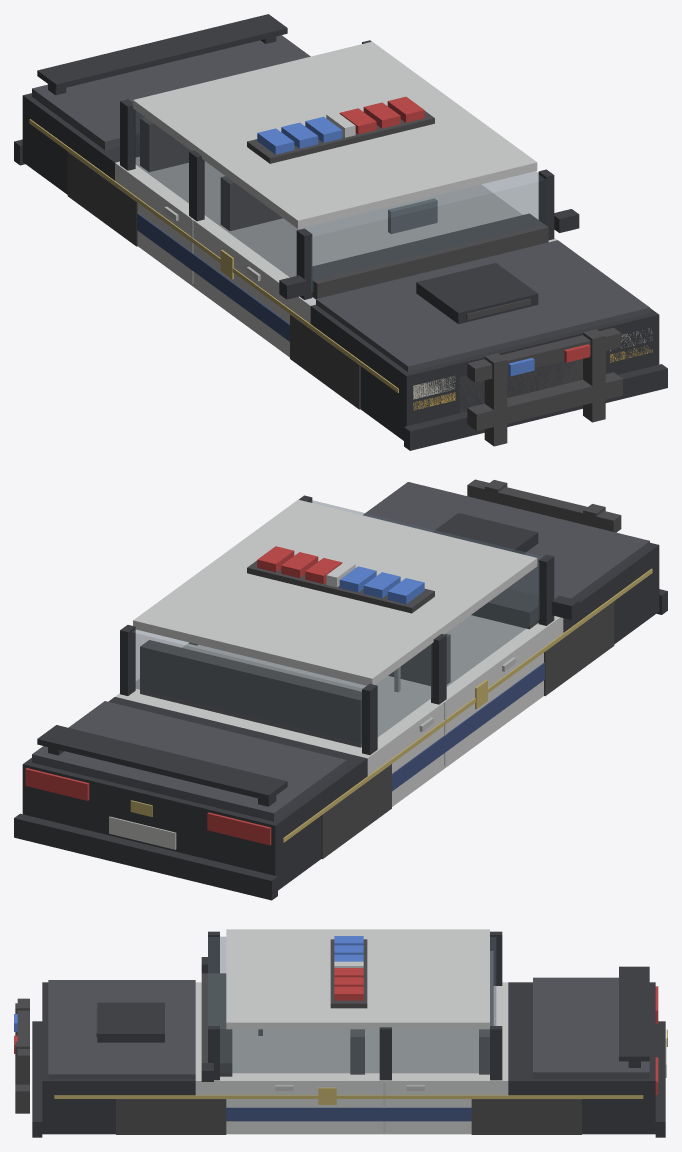
Rendered from interceptor_body.glb.
The picture shows the model from 3 angles, top to bottom: view 1: azimuth 30°, elevation 25°; view 2: azimuth 150°, elevation 25°; view 3: azimuth 270°, elevation 25°; orthographic projection. The views are drawn at different scales.
Visible parts, largest first — view 1: verda_police_interceptor; view 2: verda_police_interceptor; view 3: verda_police_interceptor.
Boxes of the visible parts, x1,y1,x2,y2 form: verda_police_interceptor: [14, 14, 667, 450]; verda_police_interceptor: [14, 479, 667, 900]; verda_police_interceptor: [14, 929, 667, 1137].
Bounding box in the file's own units: 2.2 × 1.15 × 5.33.
